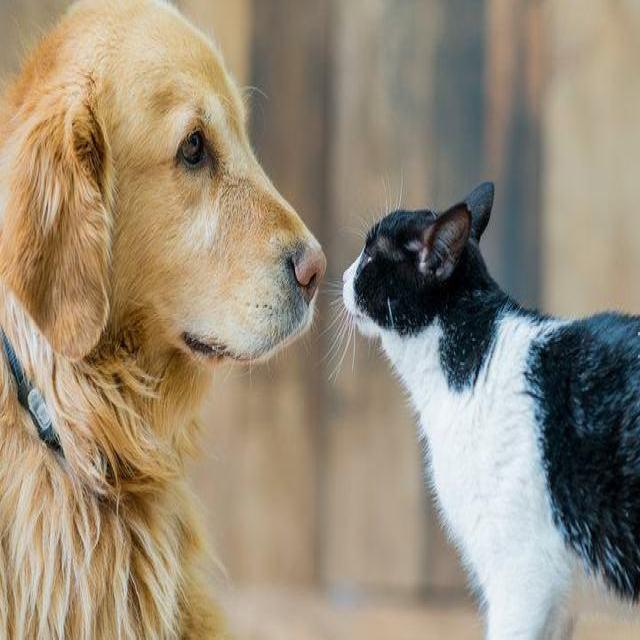cat: (335, 170, 640, 640)
dog: (0, 0, 331, 640)
